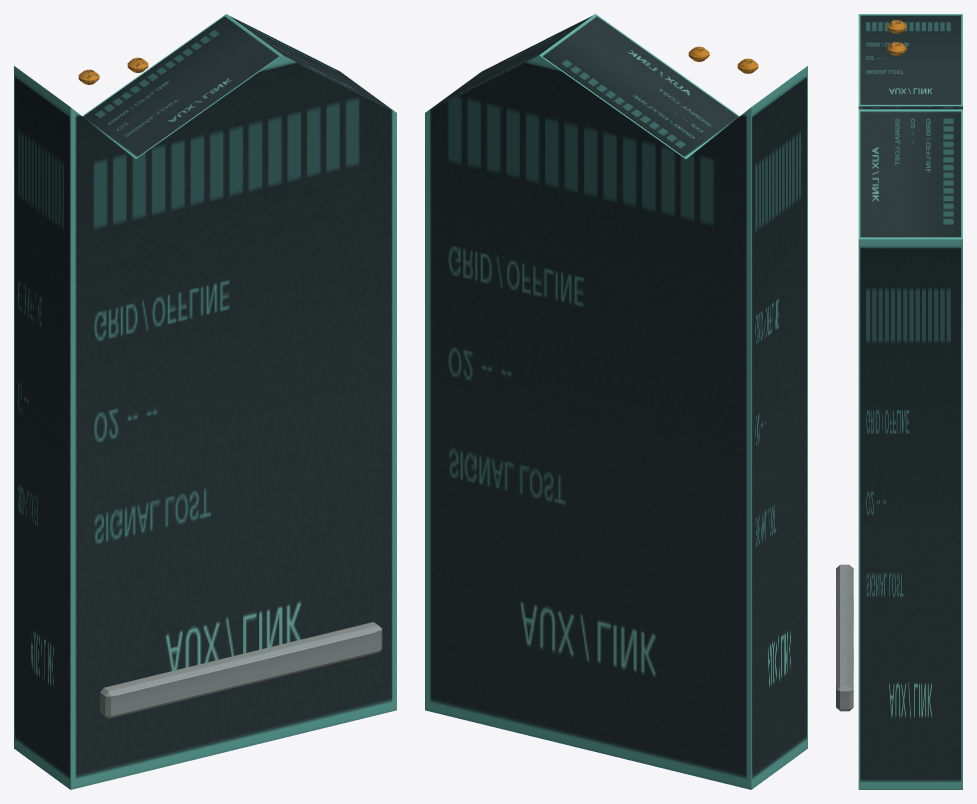
File: wall_shard_b_LOD0.obj
3 views of the same model, side by side, from view 1: azimuth 30°, elevation 25°; view 2: azimuth 150°, elevation 25°; view 3: azimuth 270°, elevation 25° (orthographic). The views are drawn at different scales.
Visible parts, largest first — view 1: L02_wall_shard_b_LOD0; view 2: L02_wall_shard_b_LOD0; view 3: L02_wall_shard_b_LOD0.
Part boxes in pixels (<box>): L02_wall_shard_b_LOD0: <box>14,14,396,789</box>; L02_wall_shard_b_LOD0: <box>425,14,807,789</box>; L02_wall_shard_b_LOD0: <box>836,14,962,789</box>.
Bounding box in the file's own units: 1 × 2.03 × 0.365.
1 material, 1 textured.
